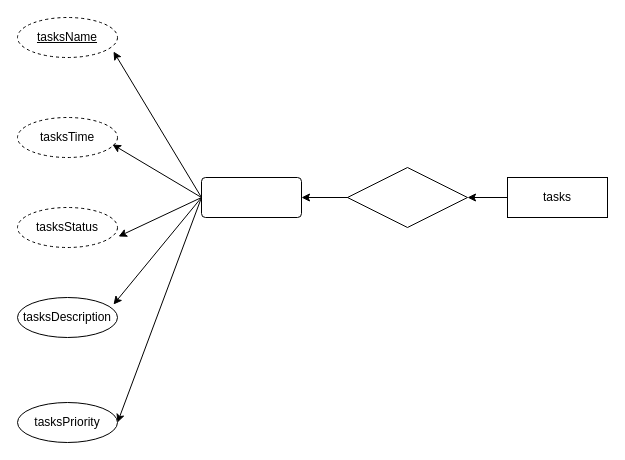
Image size: 625x460. Some labels were removed from this diagram. Here are the shapes that lost their labels. From the top down, the centre of each, then its label:
[251,197]: tasksList
[407,197]: Relationship
